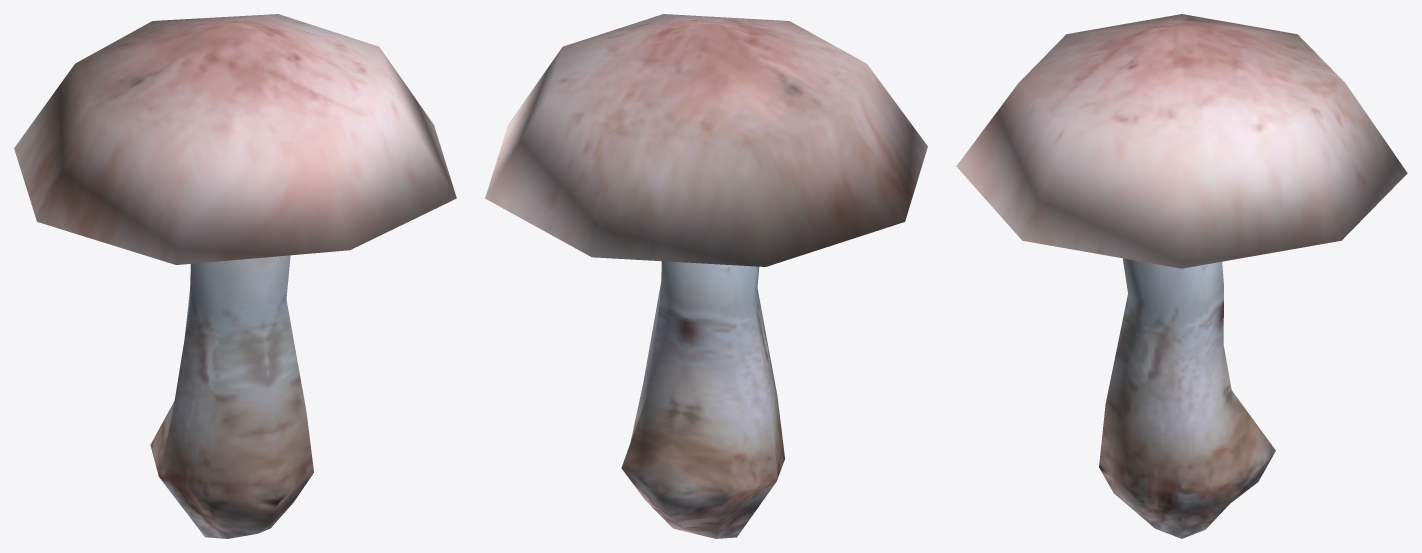
The model's file is SM_TOADSTOOL_01.FBX.
3 renders of one model, left to right at view 1: azimuth 30°, elevation 25°; view 2: azimuth 150°, elevation 25°; view 3: azimuth 270°, elevation 25°, orthographic.
Visible parts, largest first — view 1: SM_TOADSTOOL_01; view 2: SM_TOADSTOOL_01; view 3: SM_TOADSTOOL_01.
Part boxes in pixels (x1,y1,x2,y2): SM_TOADSTOOL_01: (14, 14, 456, 538); SM_TOADSTOOL_01: (485, 14, 927, 538); SM_TOADSTOOL_01: (956, 14, 1407, 538).
Bounding box in the file's own units: 10.7 × 10.7 × 13.01.
